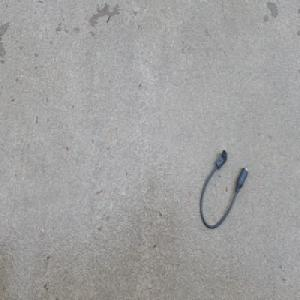Wire: (198, 148, 248, 230)
